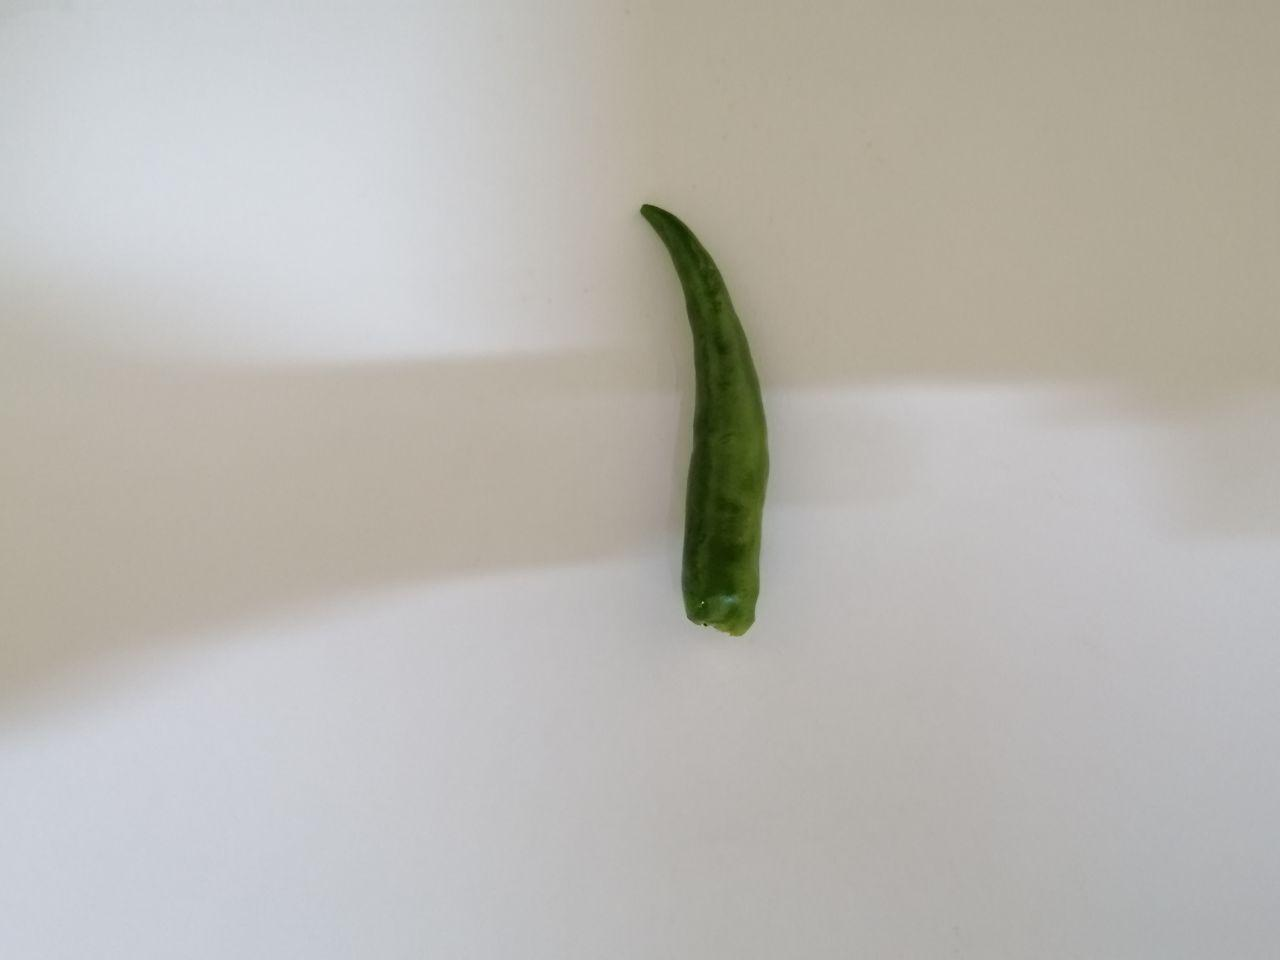lada hijau: (622, 175, 800, 639)
